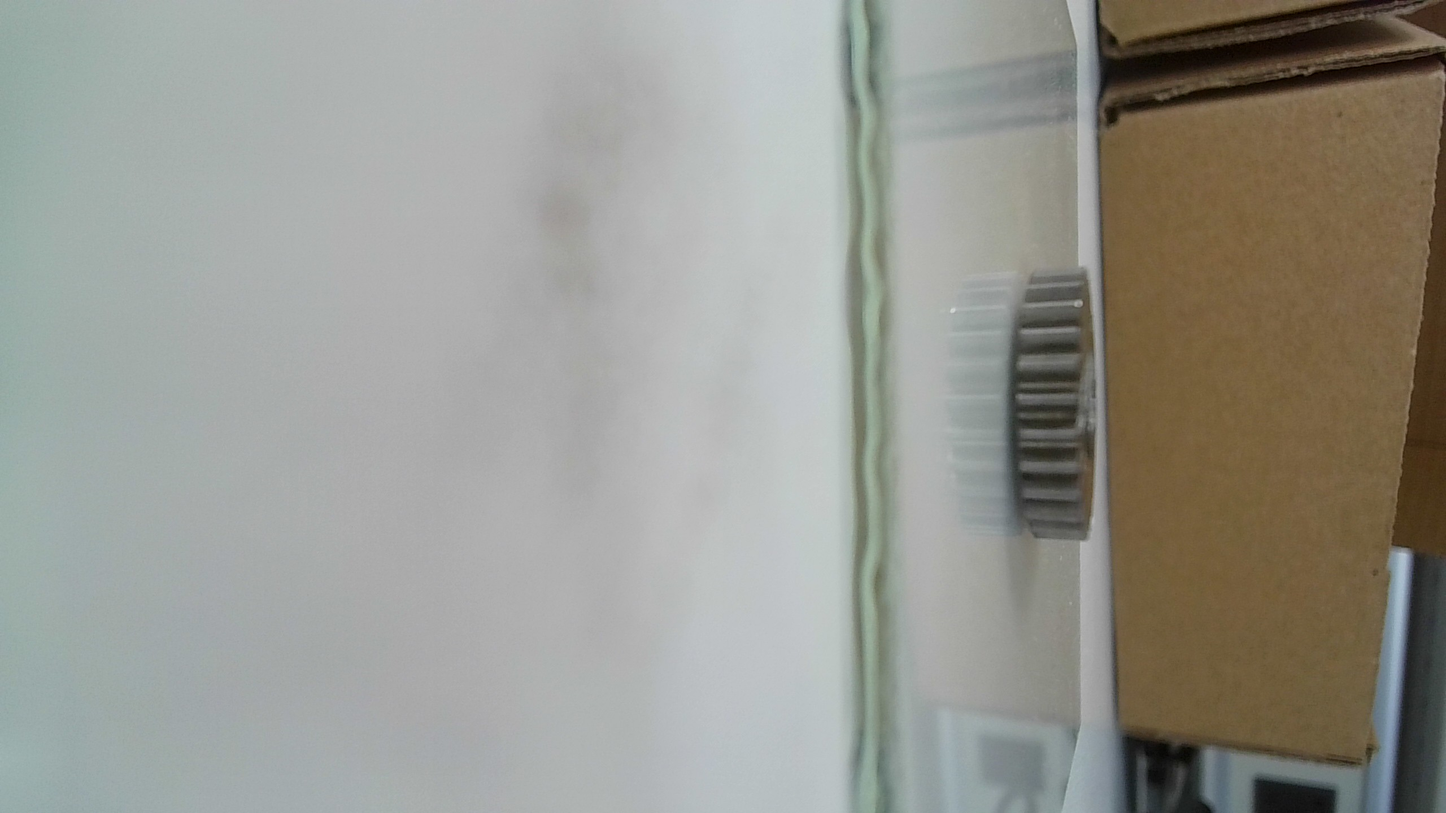gear: (1004, 259, 1111, 549)
